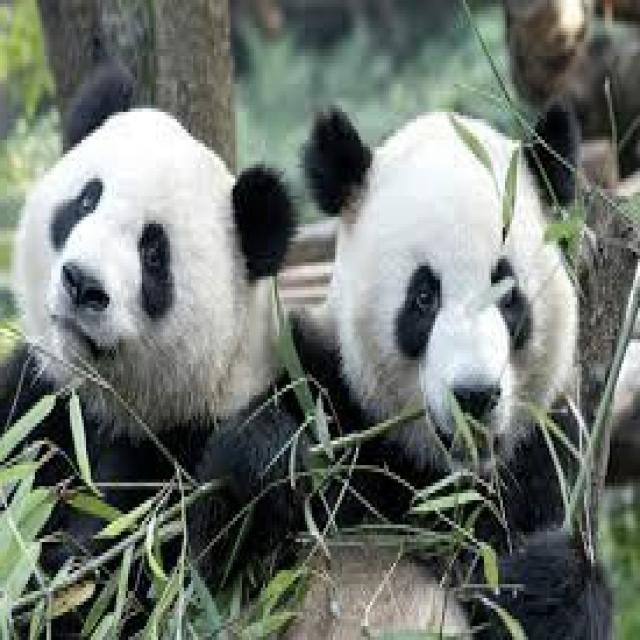panda: (293, 98, 612, 637), (2, 70, 296, 497)
